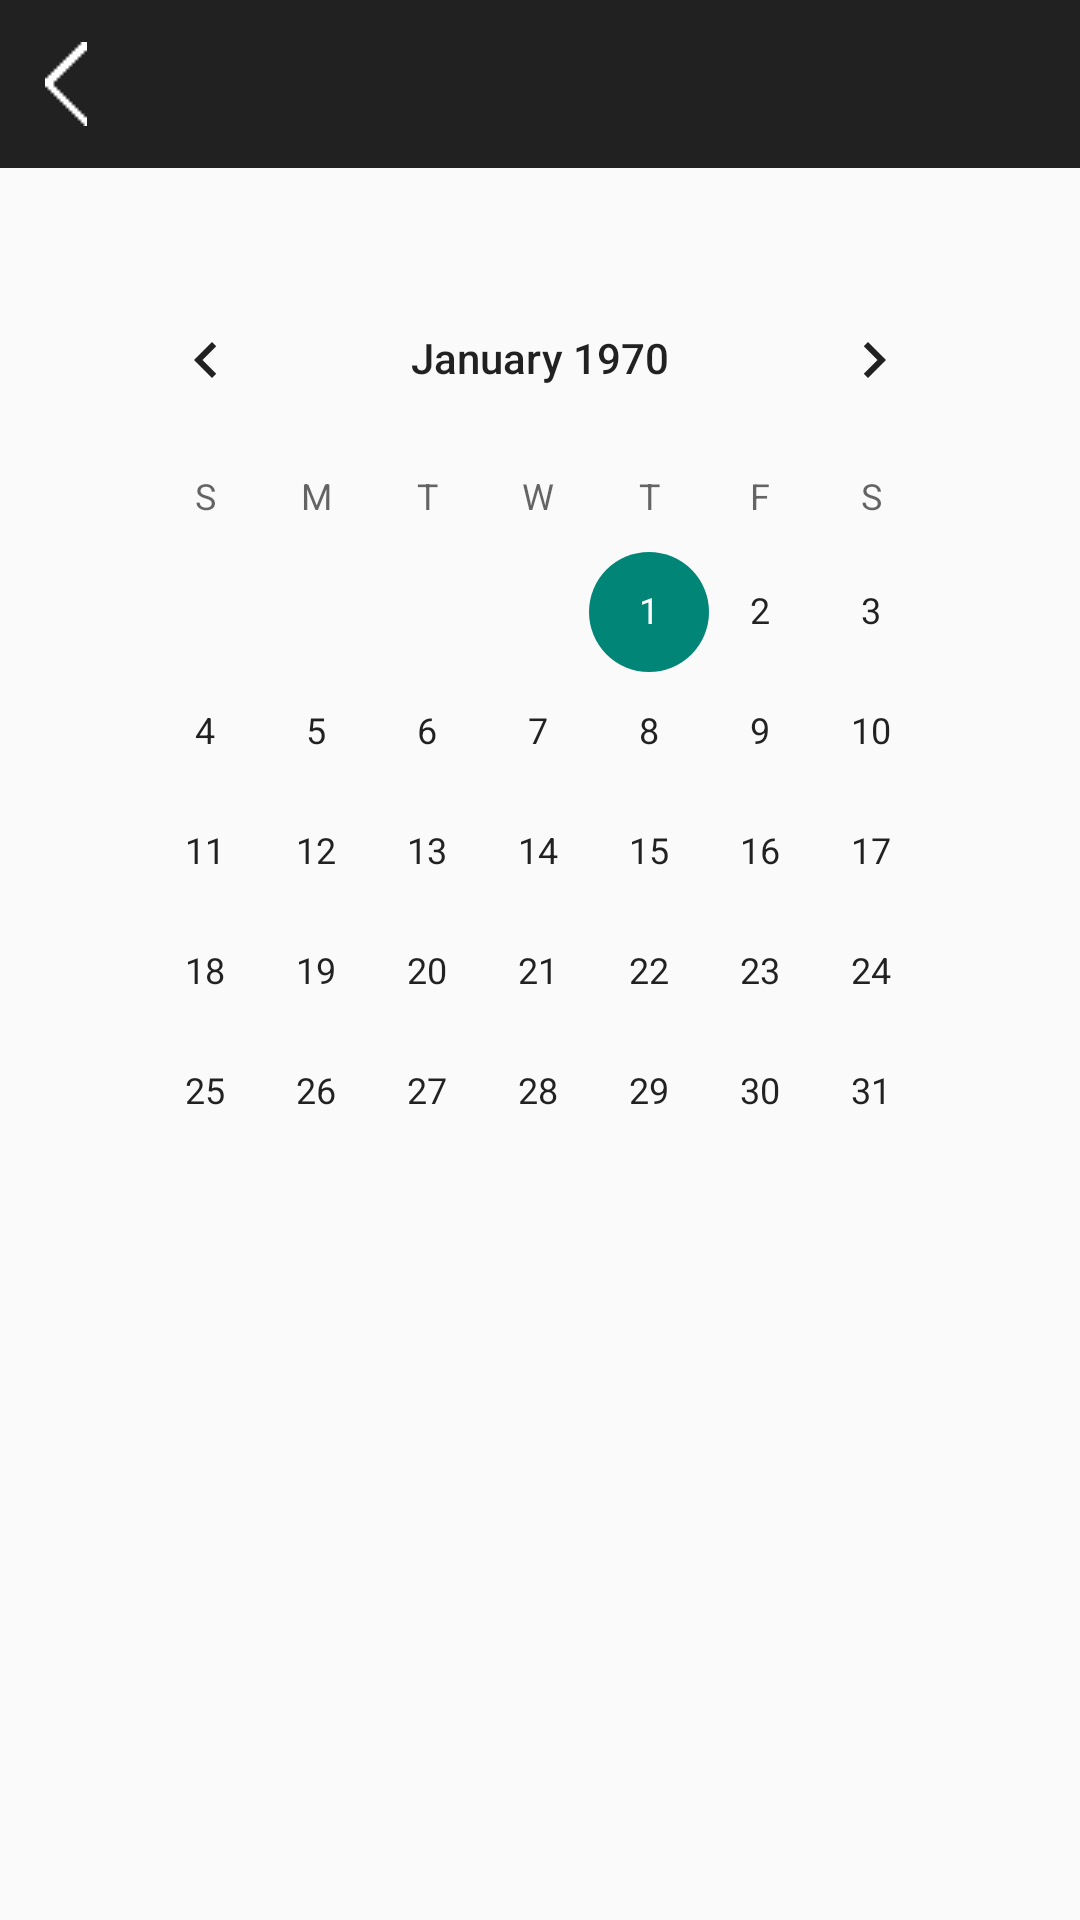

Point at icon controls on the screen. Image size 1080px x 1920px, points as (x,y).
back: (66,84)
